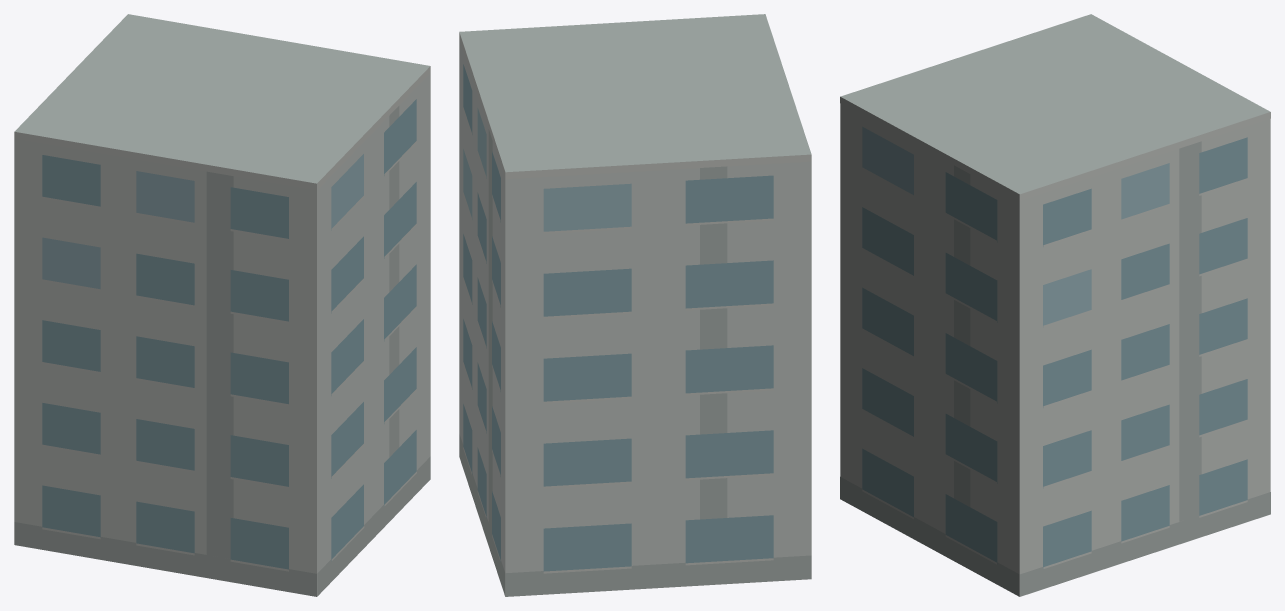
Rendered from survey-upis-32884293.glb.
The picture shows the model from 3 angles, left to right: view 1: azimuth 30°, elevation 25°; view 2: azimuth 150°, elevation 25°; view 3: azimuth 270°, elevation 25°; orthographic projection. The views are drawn at different scales.
Visible parts, largest first — view 1: survey-upis-32884293.tmp; view 2: survey-upis-32884293.tmp; view 3: survey-upis-32884293.tmp.
Boxes of the visible parts, x1,y1,x2,y2 form: survey-upis-32884293.tmp: [14, 14, 430, 596]; survey-upis-32884293.tmp: [459, 14, 811, 596]; survey-upis-32884293.tmp: [840, 14, 1270, 596].
Size of the model in its own units: 14.09 by 14.65 by 14.21.
